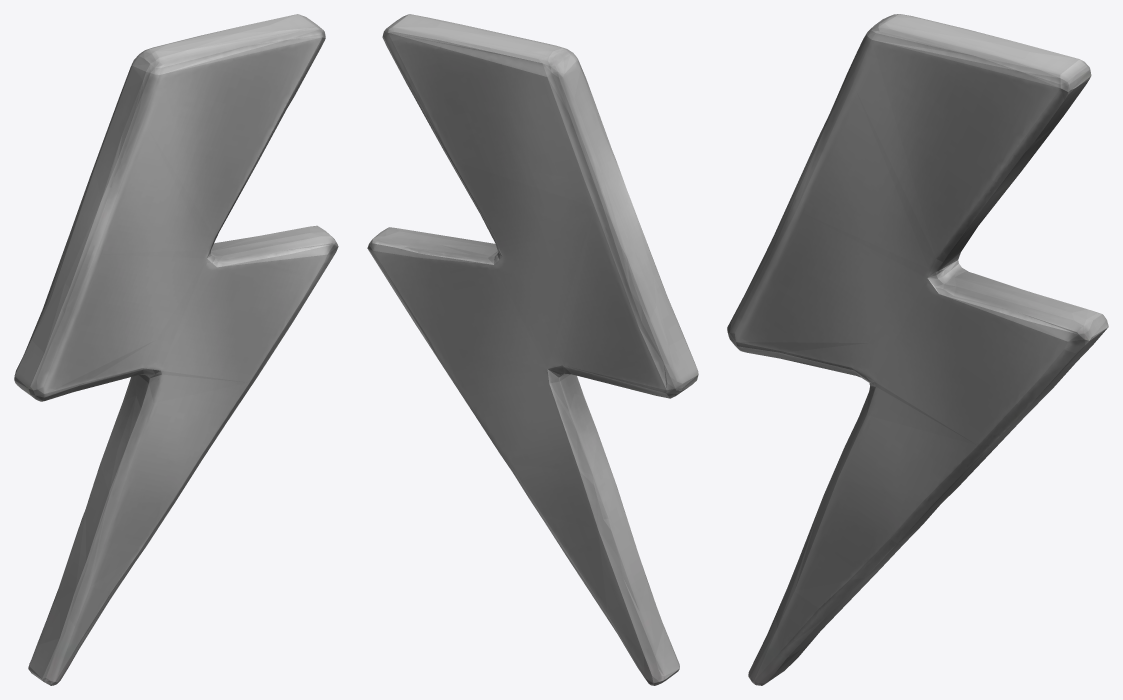
Rendered from bolt.glb.
The picture shows the model from 3 angles, left to right: view 1: azimuth 30°, elevation 25°; view 2: azimuth 150°, elevation 25°; view 3: azimuth 330°, elevation 25°; orthographic projection. The views are drawn at different scales.
Parts seen in each view (by area): view 1: geometry_0; view 2: geometry_0; view 3: geometry_0.
Boxes of the visible parts, x1,y1,x2,y2 form: geometry_0: [14, 14, 338, 685]; geometry_0: [367, 14, 698, 685]; geometry_0: [727, 14, 1108, 685].
Size of the model in its own units: 0.5425 by 0.9969 by 0.0767.
1 material, 1 textured.
